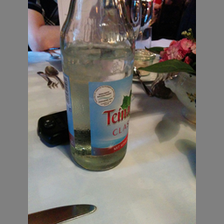water: (59, 1, 135, 171)
